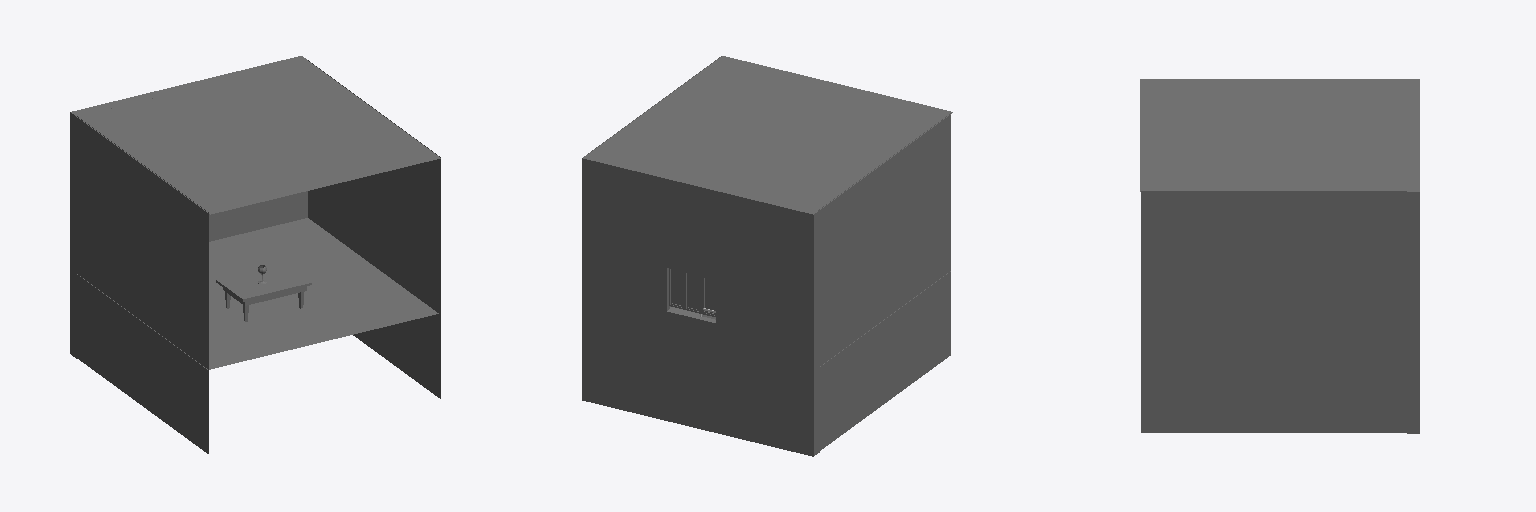
3 renders of one model, left to right at view 1: azimuth 30°, elevation 25°; view 2: azimuth 150°, elevation 25°; view 3: azimuth 270°, elevation 25°, orthographic.
Parts seen in each view (by area): view 1: LeftWall, Ceiling, Floor, RightWall, FrontWall, DiningTable; view 2: FrontWall, LeftWall, Ceiling, WindowKit WindowGlass, WindowKit WindowFrame; view 3: RightWall, Ceiling, FrontWall.
Part boxes in pixels (x1,y1,x2,y2): LeftWall: (77, 116, 208, 453); Ceiling: (77, 61, 440, 214); Floor: (77, 218, 438, 369); RightWall: (308, 60, 440, 398); FrontWall: (70, 56, 307, 358); DiningTable: (216, 263, 311, 321); FrontWall: (582, 154, 819, 456); LeftWall: (818, 113, 950, 450); Ceiling: (589, 56, 952, 209); WindowKit WindowGlass: (672, 270, 714, 313); WindowKit WindowFrame: (669, 268, 715, 316); RightWall: (1141, 191, 1406, 432); Ceiling: (1140, 79, 1406, 191); FrontWall: (1407, 79, 1419, 433).
Bounding box in the file's own units: 1001 × 1002 × 1049.